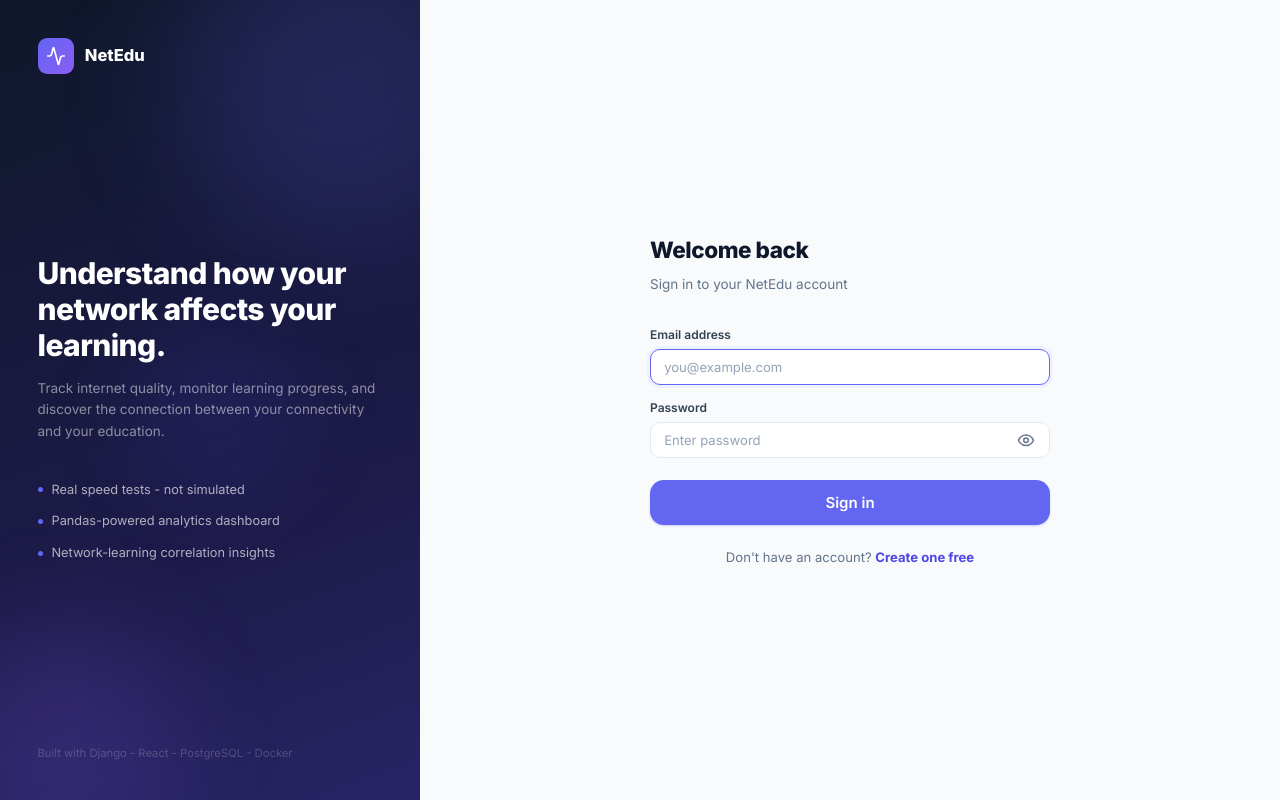
it: LoginPage › shows invalid-credentials error on failed login
Type "user@example.com" into the field with placeholder "you@example.com" at (850, 367), box [650, 349, 1050, 385]
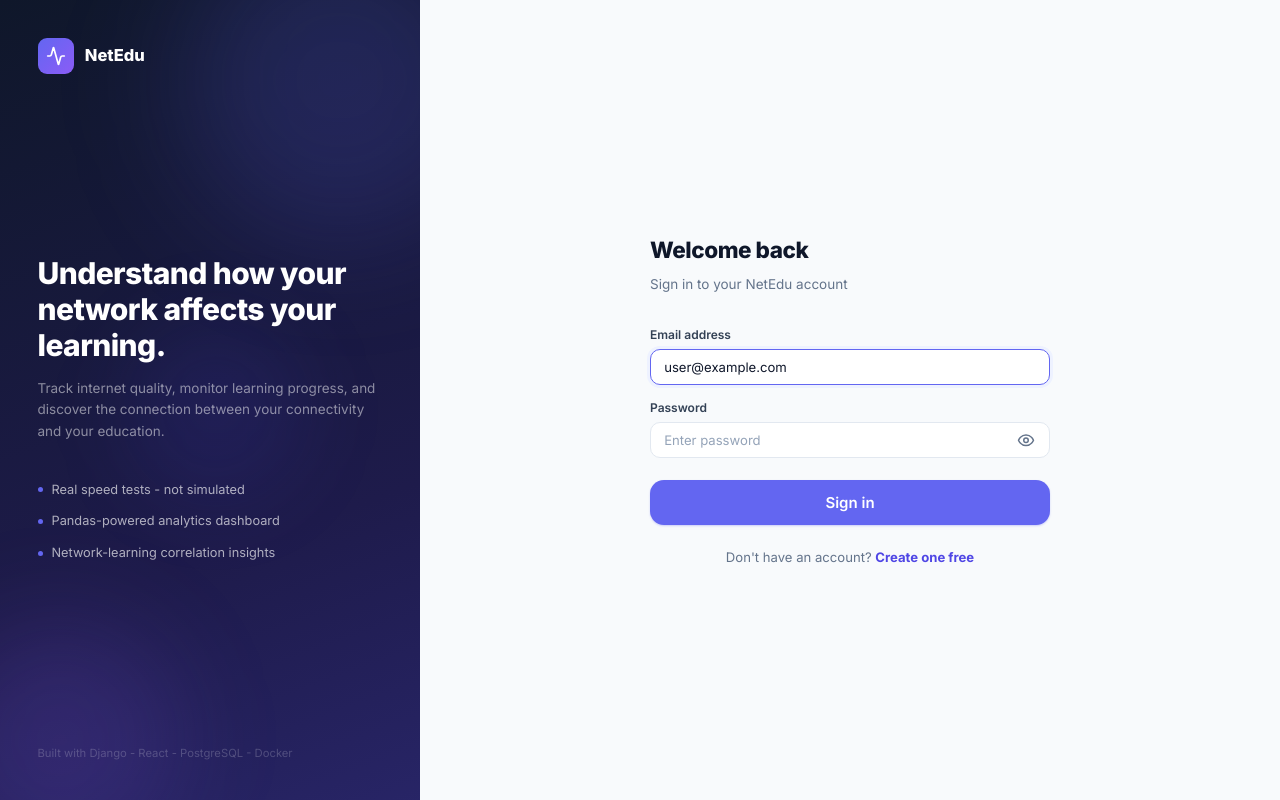
Type "WrongPass123" into the password field with placeholder "Enter password" at (850, 440), box [650, 422, 1050, 458]
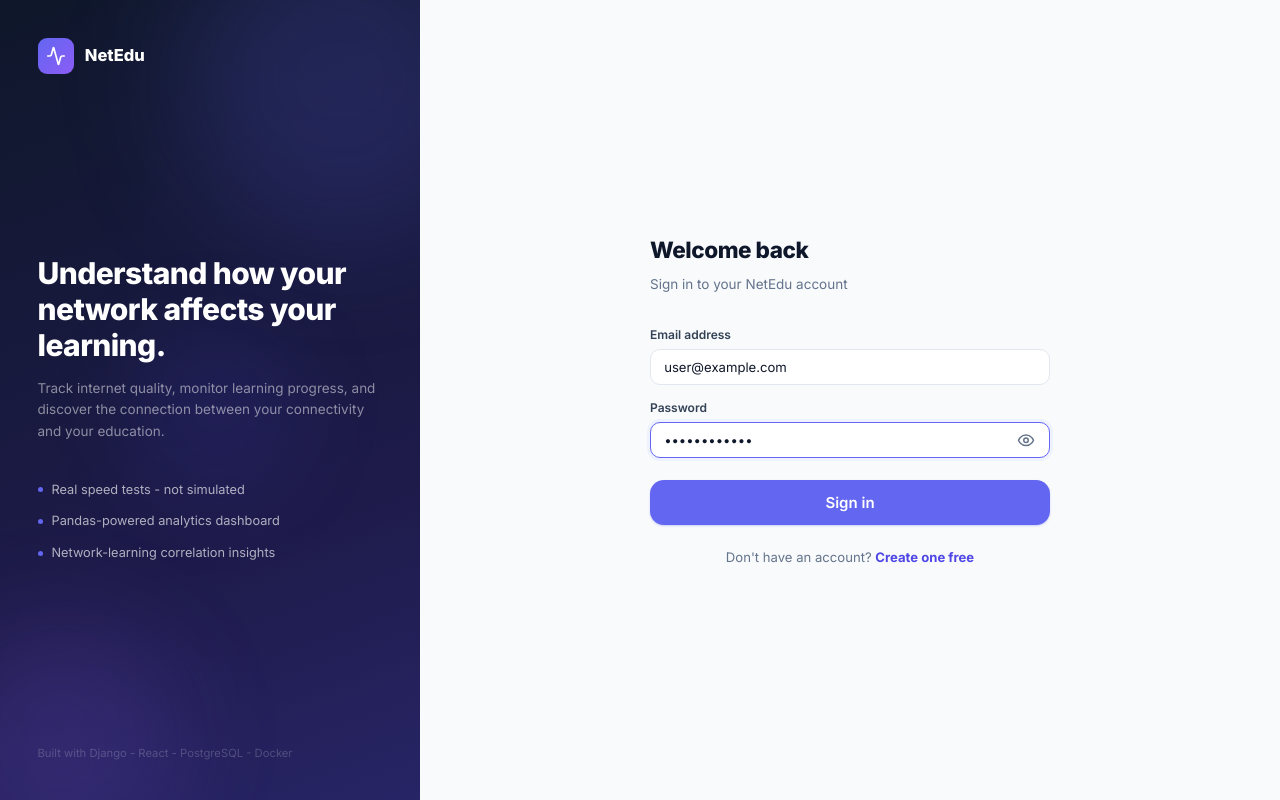
Click the button "Sign in" at (850, 503), box [650, 480, 1050, 525]
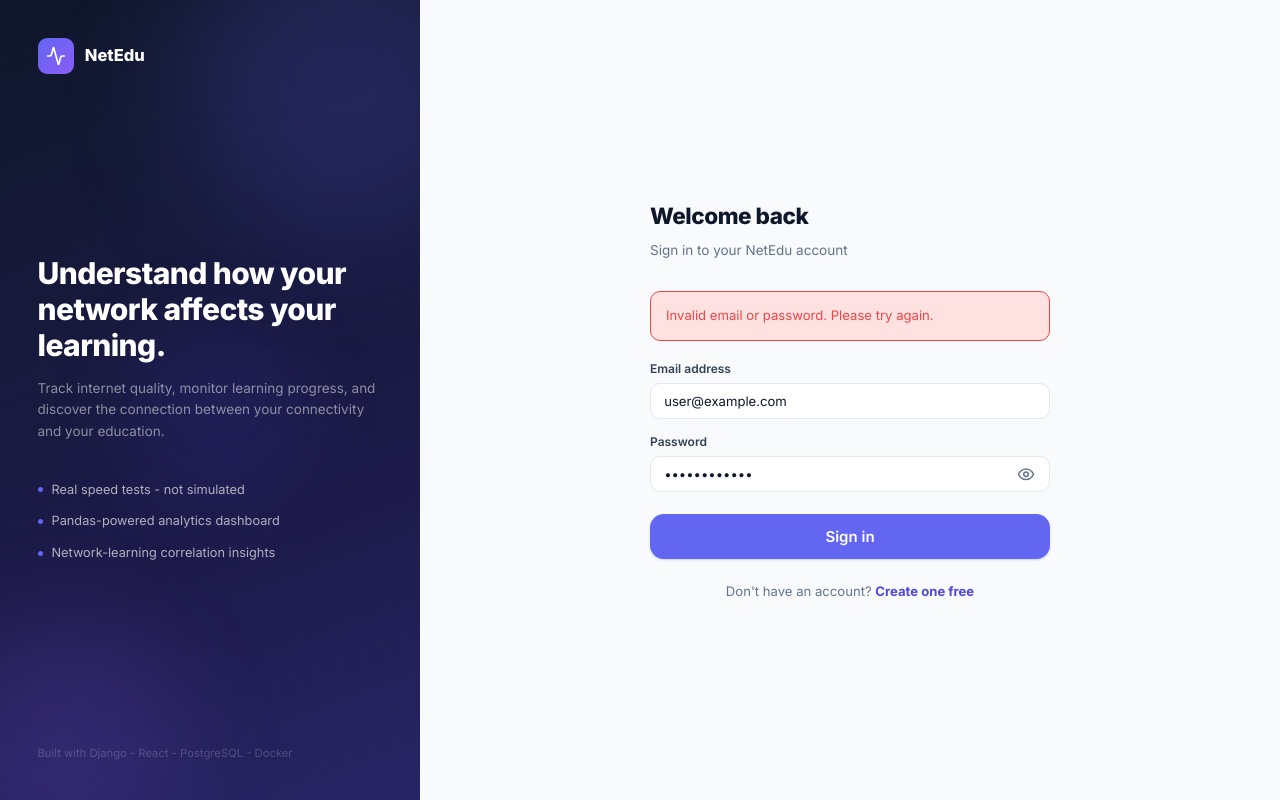
Expected: the text "Invalid email or password. Please try again." is shown, [650, 291, 1050, 341]
